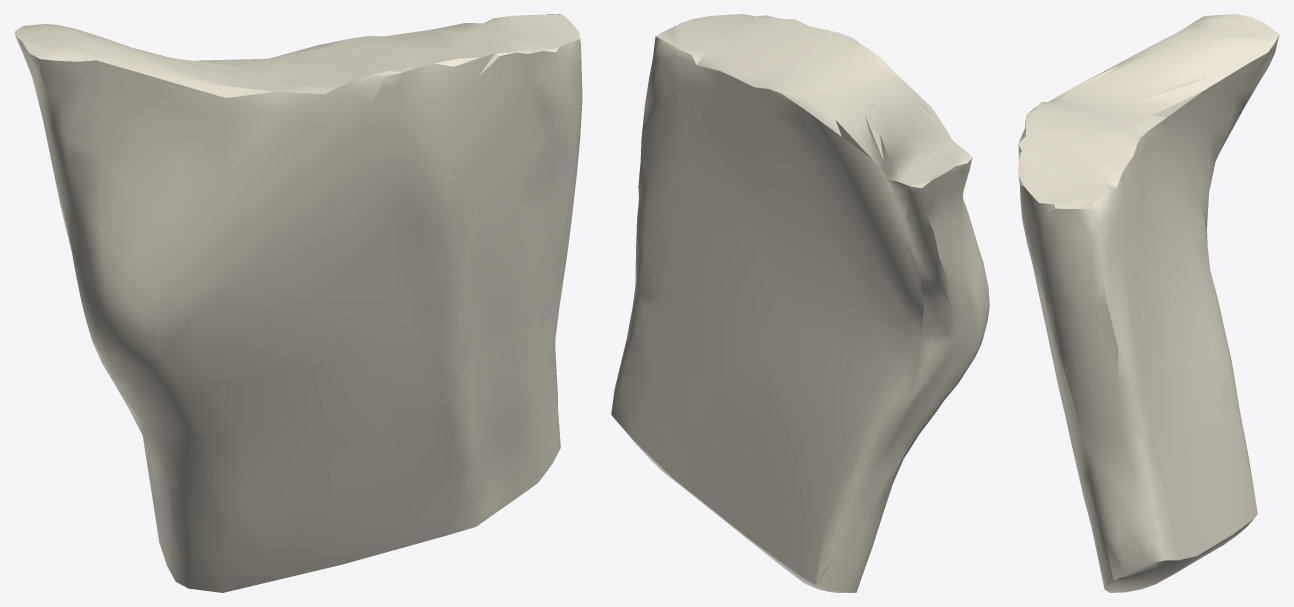
File: fma323752-l_mm1419.glb
3 views of the same model, side by side, from view 1: azimuth 30°, elevation 25°; view 2: azimuth 150°, elevation 25°; view 3: azimuth 270°, elevation 25° (orthographic). The views are drawn at different scales.
Parts seen in each view (by area): view 1: FMA323752-L_MM1419; view 2: FMA323752-L_MM1419; view 3: FMA323752-L_MM1419.
Part boxes in pixels (x1,y1,x2,y2): FMA323752-L_MM1419: (14, 14, 582, 592); FMA323752-L_MM1419: (611, 14, 989, 592); FMA323752-L_MM1419: (1018, 14, 1279, 592).
Bounding box in the file's own units: 0.00775 × 0.00893 × 0.00453.
